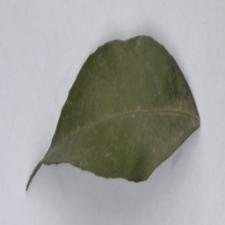Healthy: (42, 28, 206, 177)
